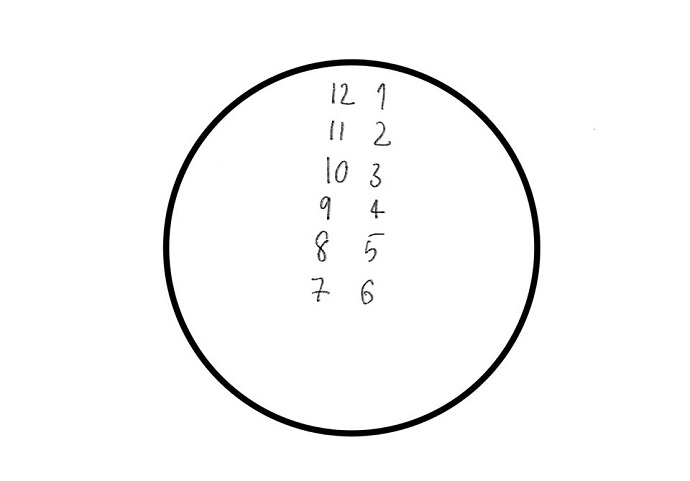eight: (314, 228, 331, 264)
eleven: (326, 116, 347, 143)
five: (365, 229, 386, 264)
four: (367, 196, 385, 222)
nine: (318, 195, 333, 220)
one: (375, 79, 388, 111)
seven: (310, 275, 330, 304)
six: (360, 275, 376, 307)
ten: (322, 154, 349, 185)
three: (369, 159, 383, 189)
twelve: (326, 78, 357, 110)
two: (372, 118, 394, 148)
